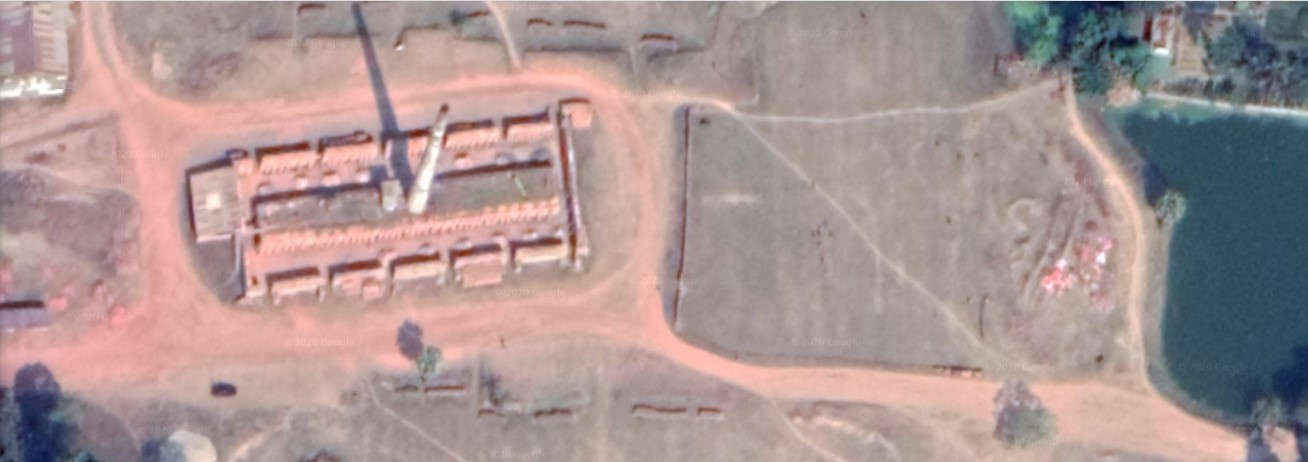kiln: (150, 62, 658, 304)
